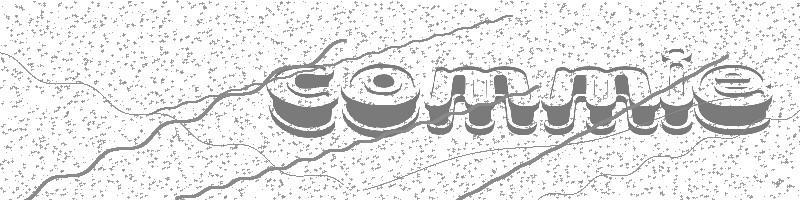c: (266, 63, 339, 140)
e: (694, 63, 774, 136)
i: (661, 47, 694, 137)
m: (542, 65, 660, 137), (424, 64, 540, 136)
o: (340, 62, 422, 139)
